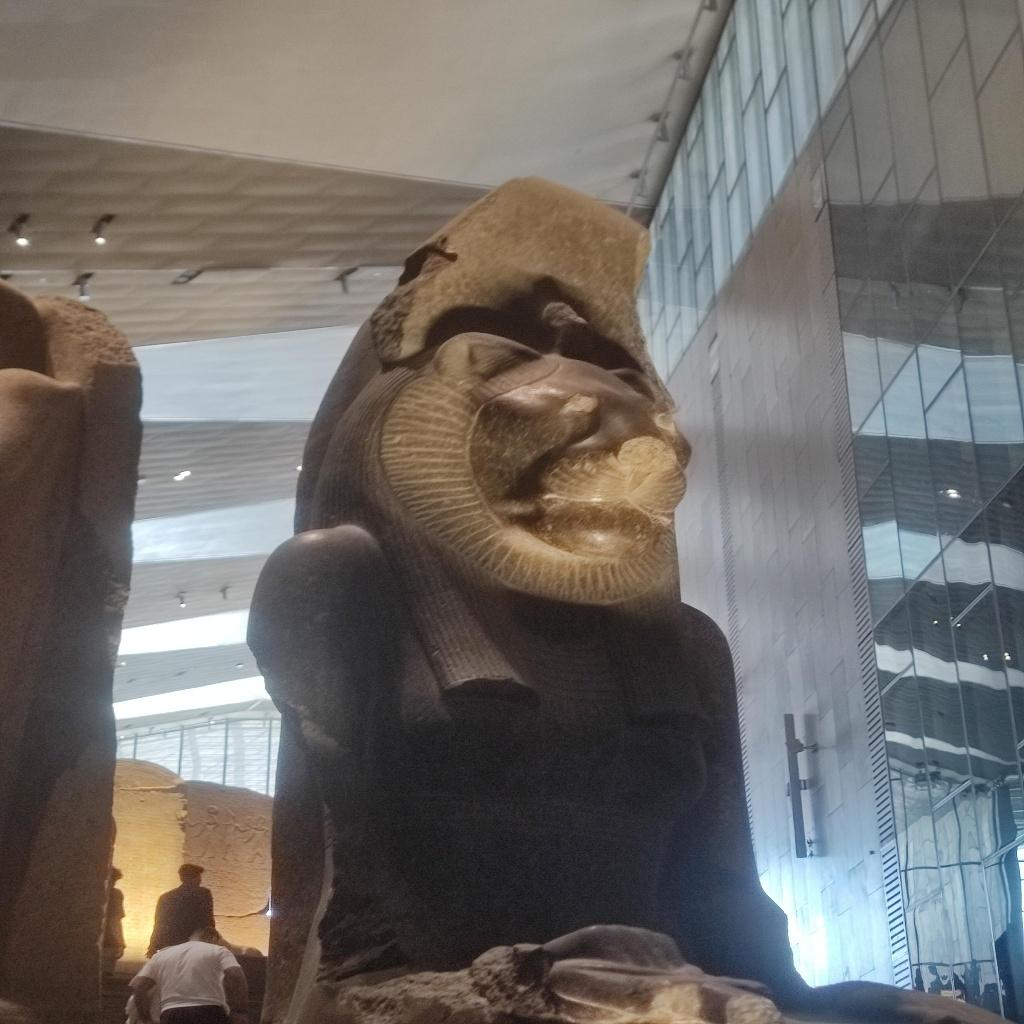Seated Statue of God Sekhmet: (243, 173, 797, 1021)
